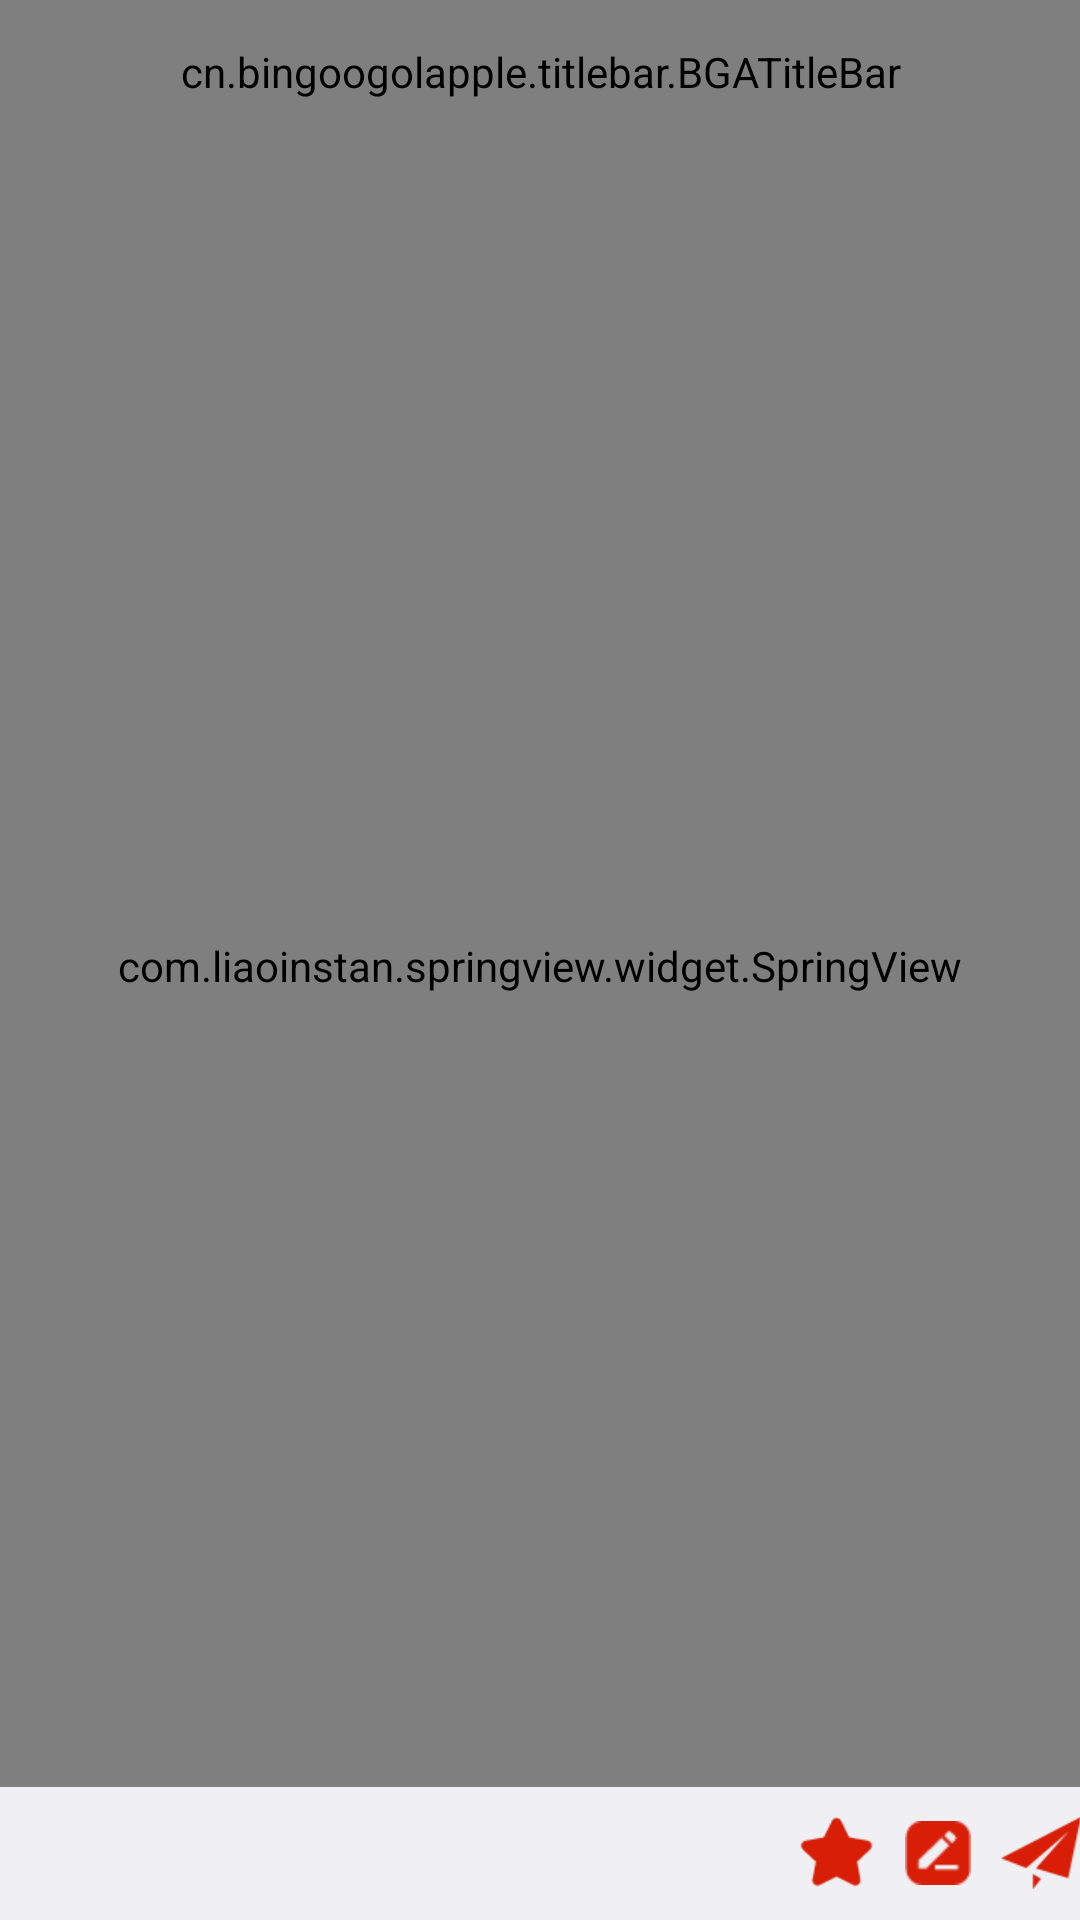

Point at icon controls on the screen. Image size 1080*1920, points as [x,y].
fabu: [1040,1853]
soucang: [836,1852]
yijian: [938,1853]
